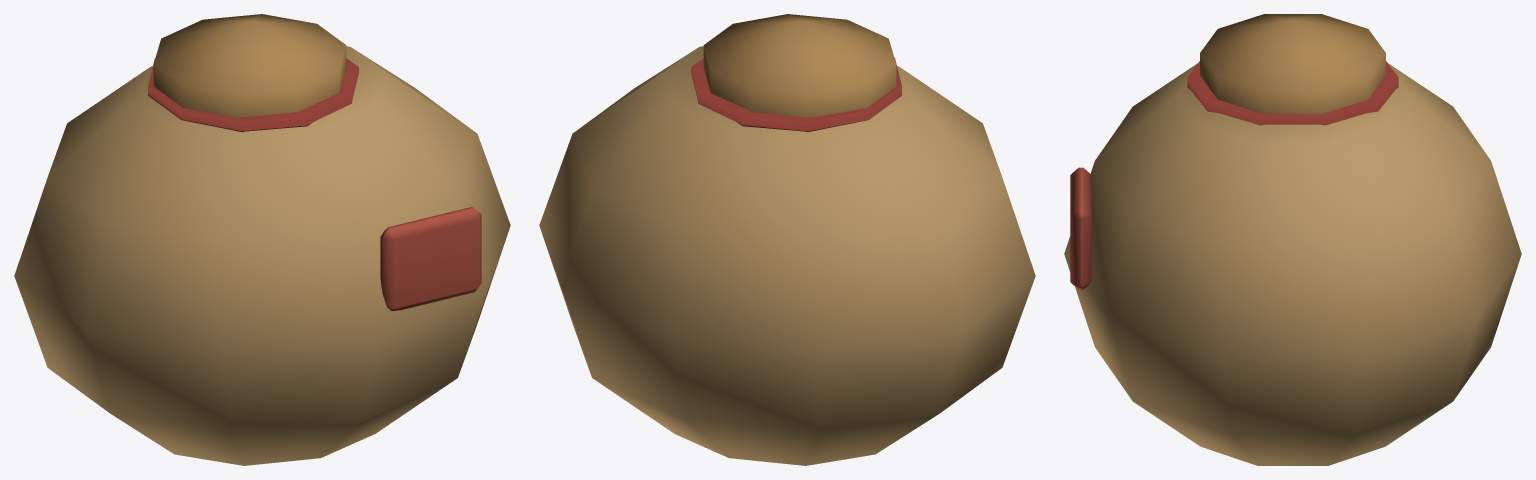
Rendered from cargo_mail.glb.
3 views of the same model, side by side, from view 1: azimuth 30°, elevation 25°; view 2: azimuth 150°, elevation 25°; view 3: azimuth 270°, elevation 25° (orthographic). The views are drawn at different scales.
Parts seen in each view (by area): view 1: Canvas mail sack; view 2: Canvas mail sack; view 3: Canvas mail sack.
Boxes of the visible parts, bbox=[...] form: Canvas mail sack: bbox=[14, 14, 510, 465]; Canvas mail sack: bbox=[539, 14, 1035, 465]; Canvas mail sack: bbox=[1064, 14, 1521, 465].
Bounding box in the file's own units: 0.5136 × 0.488 × 0.49.
